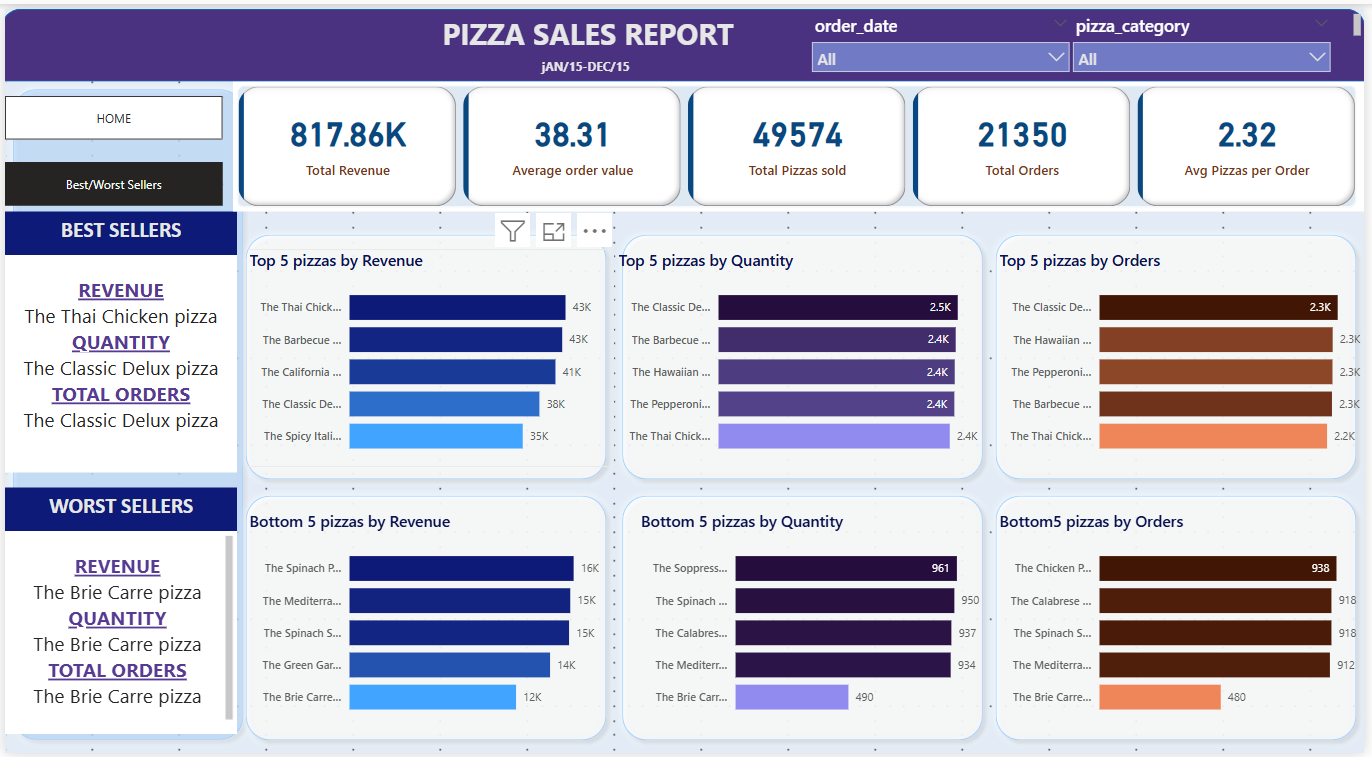

This screenshot's page, from the dashboard's own definition file:
{"tool":"powerbi","page":{"name":"Best/Worst Sellers","canvas":[1500,820],"ordinal":1},"visuals":[{"type":"shape","box":[0,80,272,736],"z":0},{"type":"textbox","box":[0,224,256,48],"z":1000},{"type":"cardVisual","fields":{"Data":["pizza_sales.Total Revenue","pizza_sales.Average order value","pizza_sales.Total Pizzas sold","pizza_sales.Total Orders","pizza_sales.Avg Pizzas per Order"]},"box":[252,80,1248,144],"z":2000},{"type":"shape","box":[-4,0,1504,80],"z":3000},{"type":"textbox","box":[-4,0,1504,48],"z":4000},{"type":"textbox","box":[576,48,240,32],"z":5000},{"type":"shape","box":[256,240,416,288],"z":6000},{"type":"textbox","box":[0,272,256,240],"z":16000},{"type":"textbox","box":[0,528,256,48],"z":17000},{"type":"textbox","box":[0,576,256,224],"z":18000},{"type":"slicer","fields":{"Values":["pizza_sales.pizza_category"]},"box":[1168,0,304,80],"z":19000},{"type":"slicer","fields":{"Values":["pizza_sales.order_date"]},"box":[880,0,304,96],"z":20000},{"type":"shape","box":[672,240,416,288],"z":20001},{"type":"shape","box":[1084,240,416,288],"z":20002},{"type":"shape","box":[256,528,416,288],"z":20003},{"type":"shape","box":[1084,528,416,288],"z":20005},{"type":"shape","box":[672,528,416,288],"z":20006},{"type":"barChart","title":"Top 5 pizzas by Revenue ","fields":{"Category":["pizza_sales.pizza_name"],"Y":["pizza_sales.Total Revenue"]},"box":[264,264,408,240],"z":20007},{"type":"barChart","title":"Bottom 5 pizzas by Revenue ","fields":{"Category":["pizza_sales.pizza_name"],"Y":["pizza_sales.Total Revenue"]},"box":[264,552,408,240],"z":20008},{"type":"barChart","title":"Top 5 pizzas by Quantity","fields":{"Category":["pizza_sales.pizza_name"],"Y":["pizza_sales.Total Pizzas sold"]},"box":[672,264,408,240],"z":20009},{"type":"barChart","title":"Bottom 5 pizzas by Quantity","fields":{"Category":["pizza_sales.pizza_name"],"Y":["pizza_sales.Total Pizzas sold"]},"box":[696,552,384,240],"z":20010},{"type":"barChart","title":"Top 5 pizzas by Orders","fields":{"Category":["pizza_sales.pizza_name"],"Y":["pizza_sales.Total Orders"]},"box":[1092,264,408,240],"z":20011},{"type":"barChart","title":"Bottom5 pizzas by Orders","fields":{"Category":["pizza_sales.pizza_name"],"Y":["pizza_sales.Total Orders"]},"box":[1092,552,408,240],"z":20012},{"type":"pageNavigator","box":[0,96,240,48],"z":20013},{"type":"pageNavigator","box":[0,168,240,48],"z":20014}]}

Visuals, with their boxes in screenshot pixels (x1, y1, x2, y2), scaled from the page's 1500x820 canvas onto the 1372x757 screenshot:
shape: bbox=(0, 74, 249, 753)
textbox: bbox=(0, 207, 234, 251)
cardVisual - pizza_sales.Total Revenue x pizza_sales.Average order value: bbox=(230, 74, 1371, 207)
shape: bbox=(0, 0, 1371, 74)
textbox: bbox=(0, 0, 1371, 44)
textbox: bbox=(527, 44, 746, 74)
shape: bbox=(234, 222, 615, 487)
textbox: bbox=(0, 251, 234, 473)
textbox: bbox=(0, 487, 234, 532)
textbox: bbox=(0, 532, 234, 739)
slicer - pizza_sales.pizza_category: bbox=(1068, 0, 1346, 74)
slicer - pizza_sales.order_date: bbox=(805, 0, 1083, 89)
shape: bbox=(615, 222, 995, 487)
shape: bbox=(991, 222, 1371, 487)
shape: bbox=(234, 487, 615, 753)
shape: bbox=(991, 487, 1371, 753)
shape: bbox=(615, 487, 995, 753)
"Top 5 pizzas by Revenue " barChart: bbox=(241, 244, 615, 465)
"Bottom 5 pizzas by Revenue " barChart: bbox=(241, 510, 615, 731)
"Top 5 pizzas by Quantity" barChart: bbox=(615, 244, 988, 465)
"Bottom 5 pizzas by Quantity" barChart: bbox=(637, 510, 988, 731)
"Top 5 pizzas by Orders" barChart: bbox=(999, 244, 1371, 465)
"Bottom5 pizzas by Orders" barChart: bbox=(999, 510, 1371, 731)
pageNavigator: bbox=(0, 89, 220, 133)
pageNavigator: bbox=(0, 155, 220, 199)
